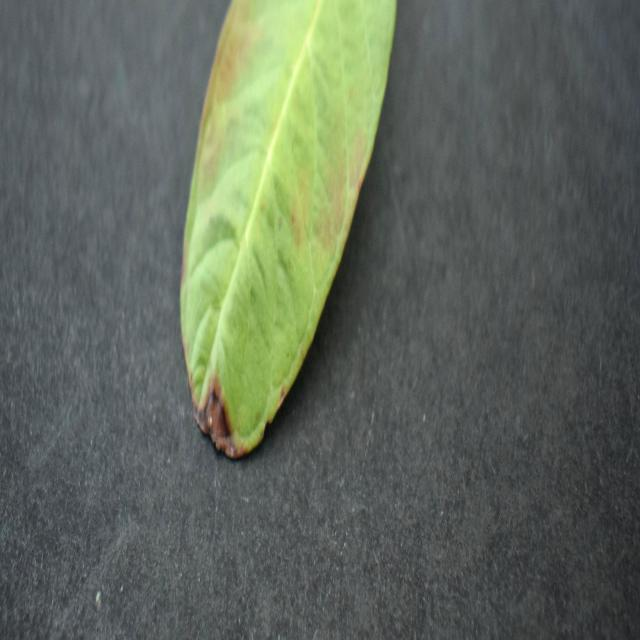Dot: (181, 0, 395, 458)
